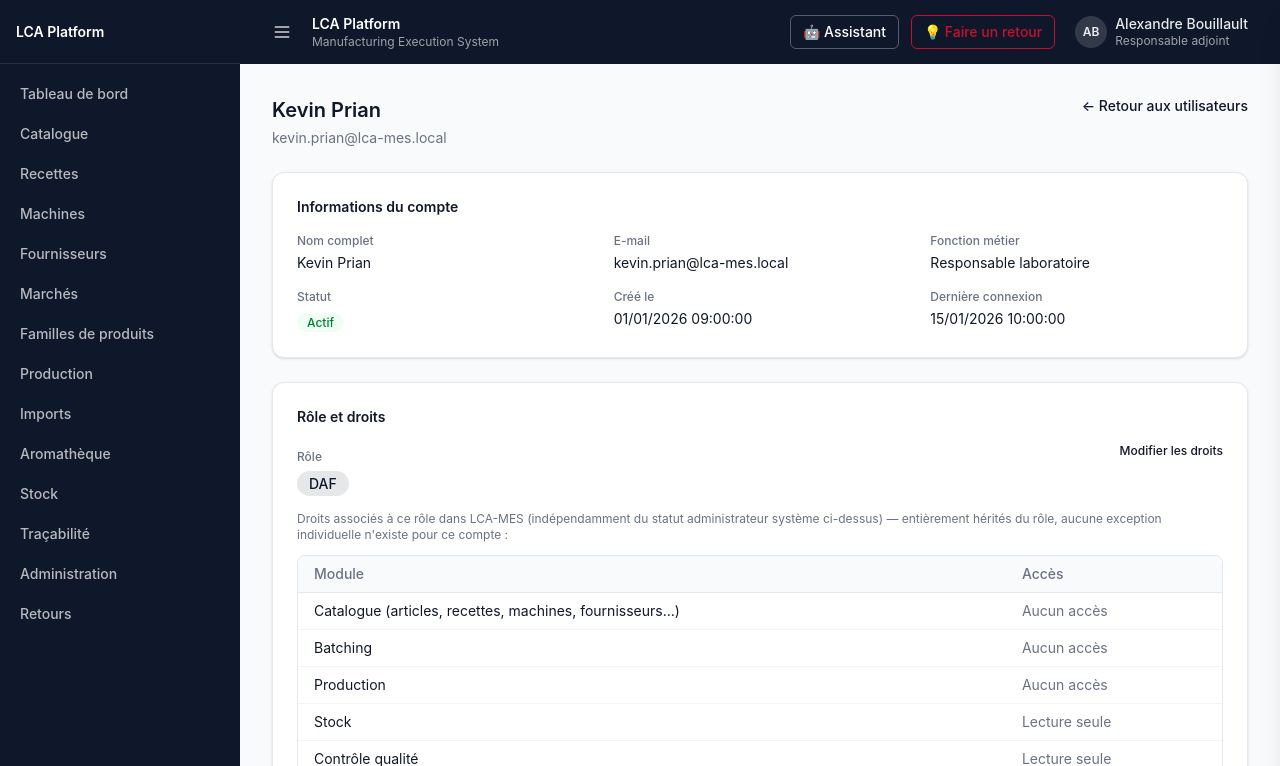
Test: UserDetailPage › modification des droits › affiche un résumé des changements et l'aperçu des droits du nouveau rôle avant validation
Click the button "Modifier les droits" at (1171, 451), box [1120,443,1223,459]
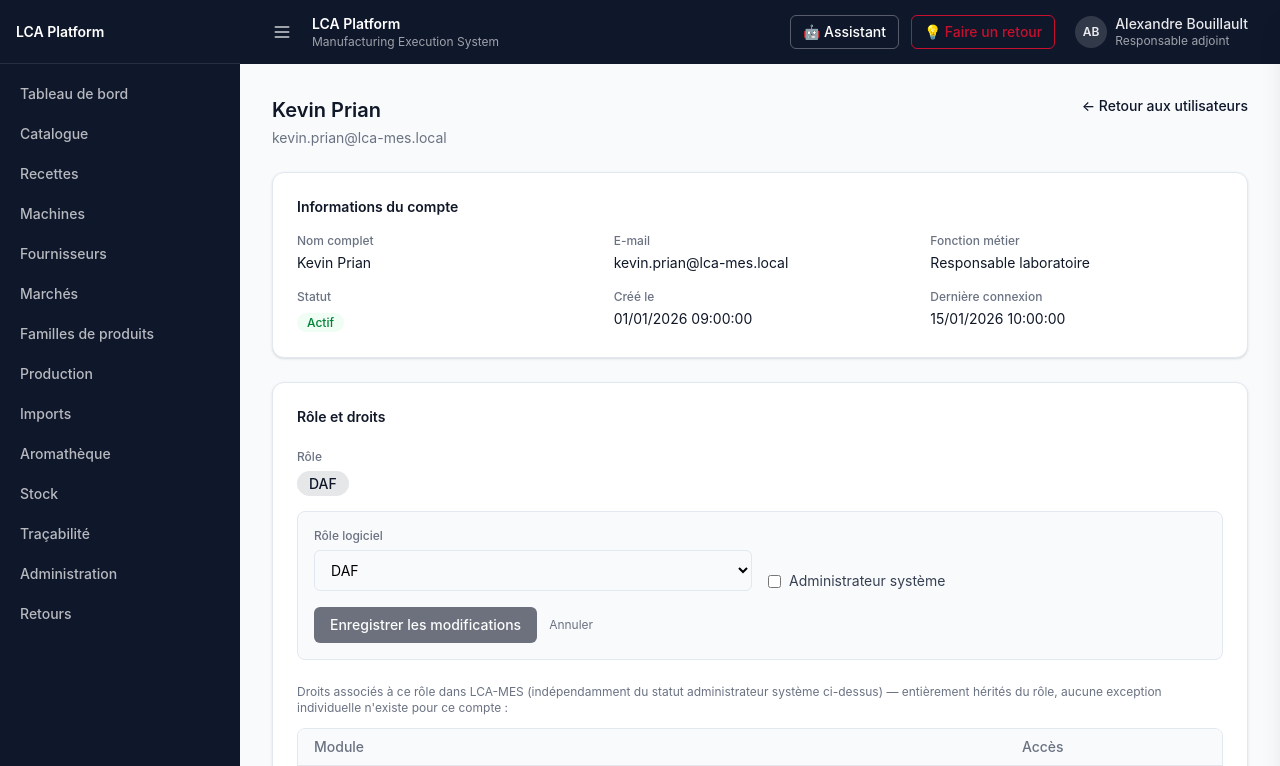
Select "Responsable adjoint" in the dropdown labelled "Rôle logiciel" at (533, 570), box [314,550,752,591]
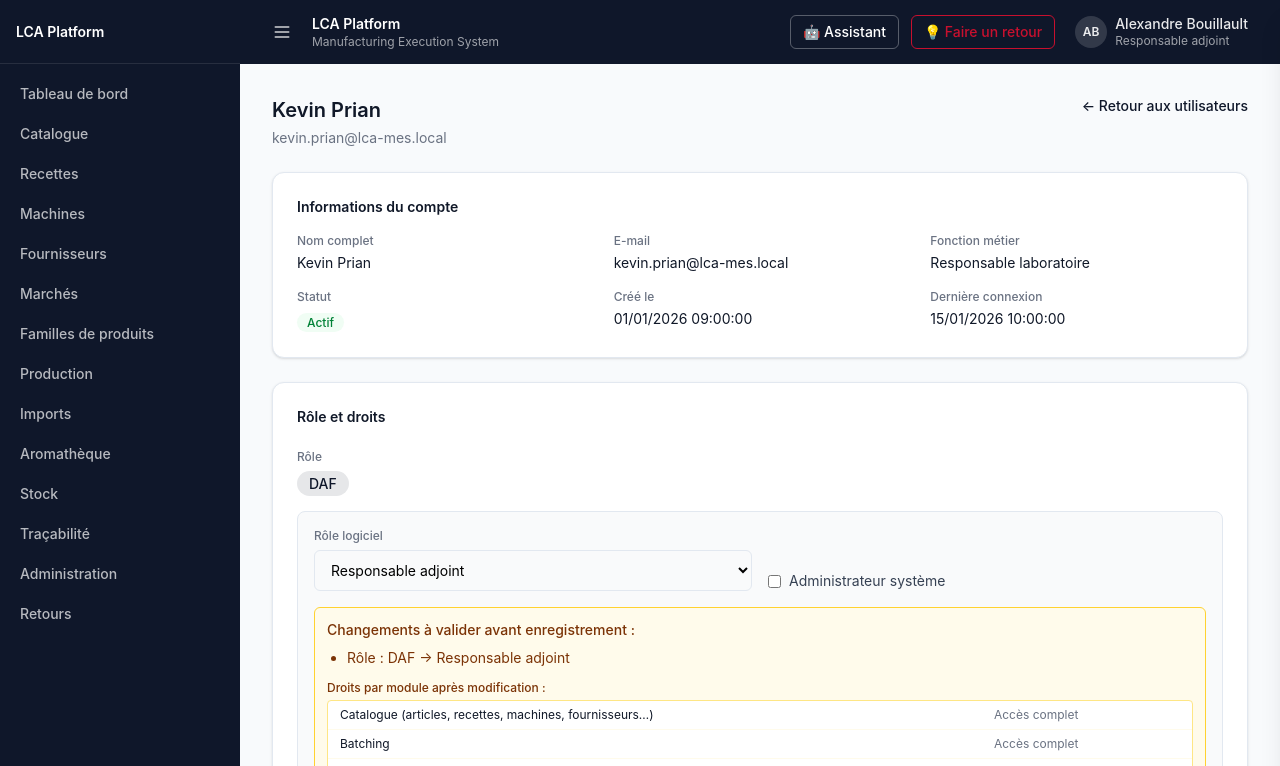
Expected: the list item "Rôle : DAF → Responsable adjoint" is shown, [347,649,570,666]
Expected: the 1st text "Accès complet" is shown, [982,701,1192,730]
